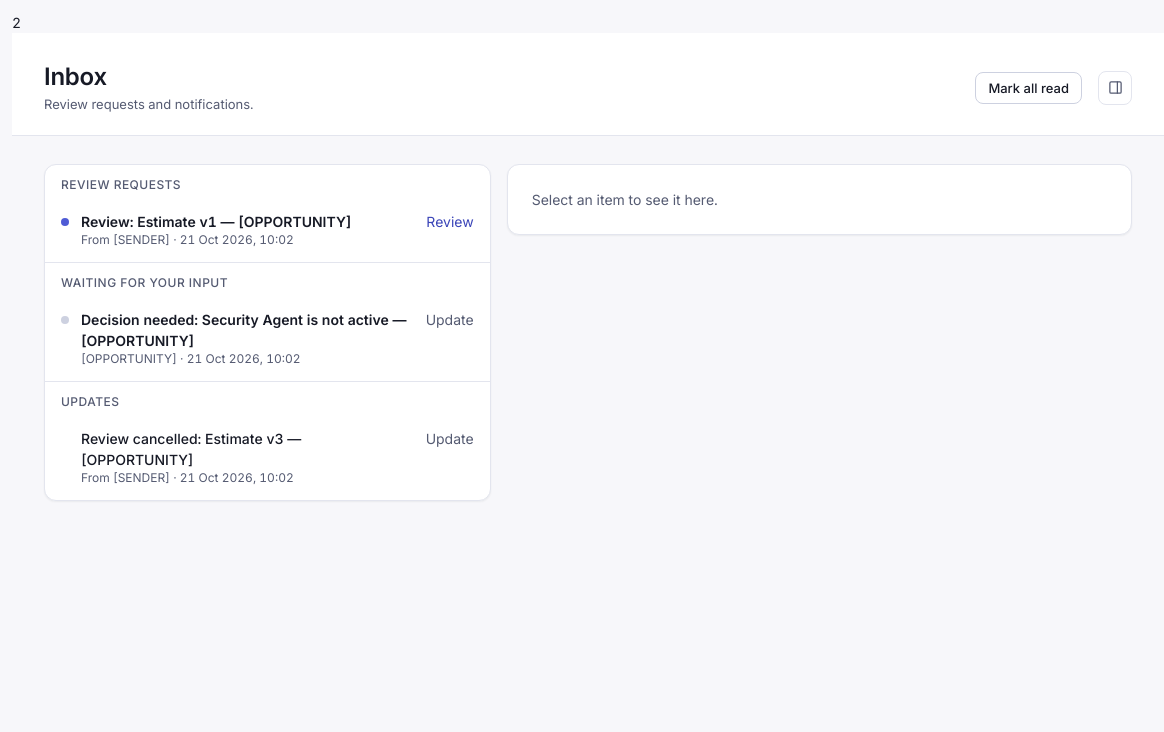
Test case: InboxView › Mark all read is disabled with nothing unread and marks everything read
The image size is (1164, 732).
Expected: the element named "Inbox items" is shown, [44, 164, 491, 500]
Step 1. Click the button "Mark all read" → (1029, 88), box [975, 72, 1082, 104]
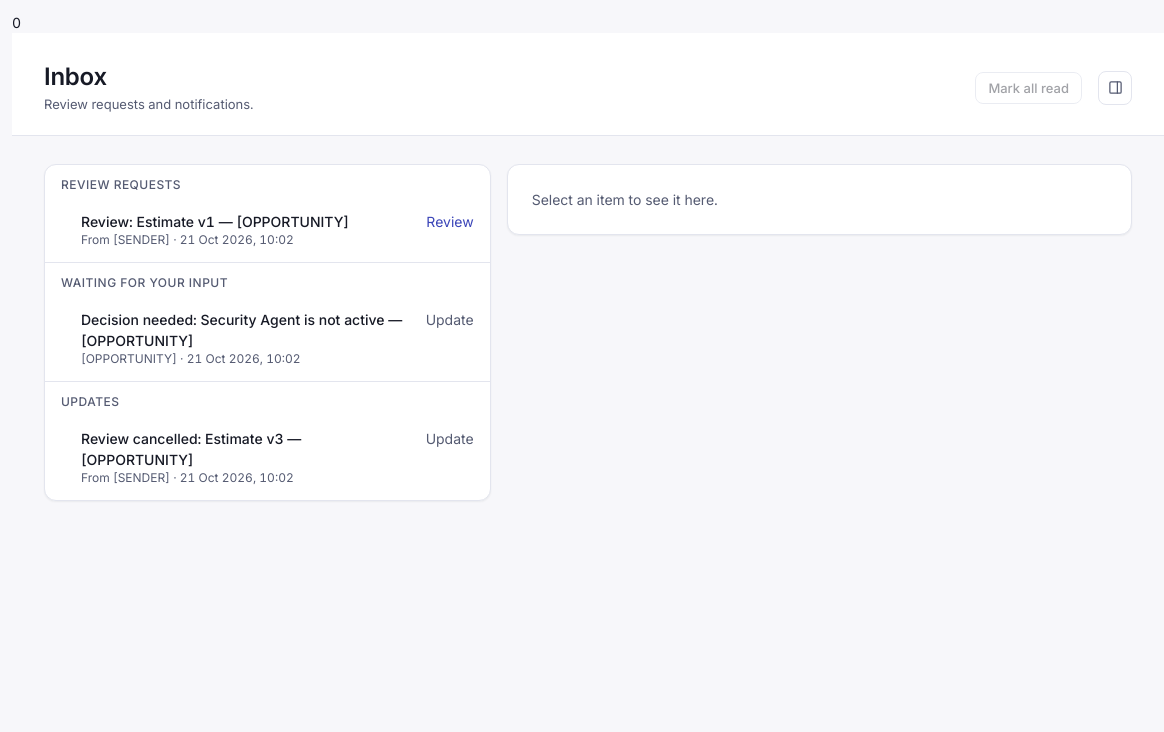
Now the text with test id "count" reads "0", box [12, 14, 21, 31]
Now the button "Mark all read" is disabled, box [975, 72, 1082, 104]
